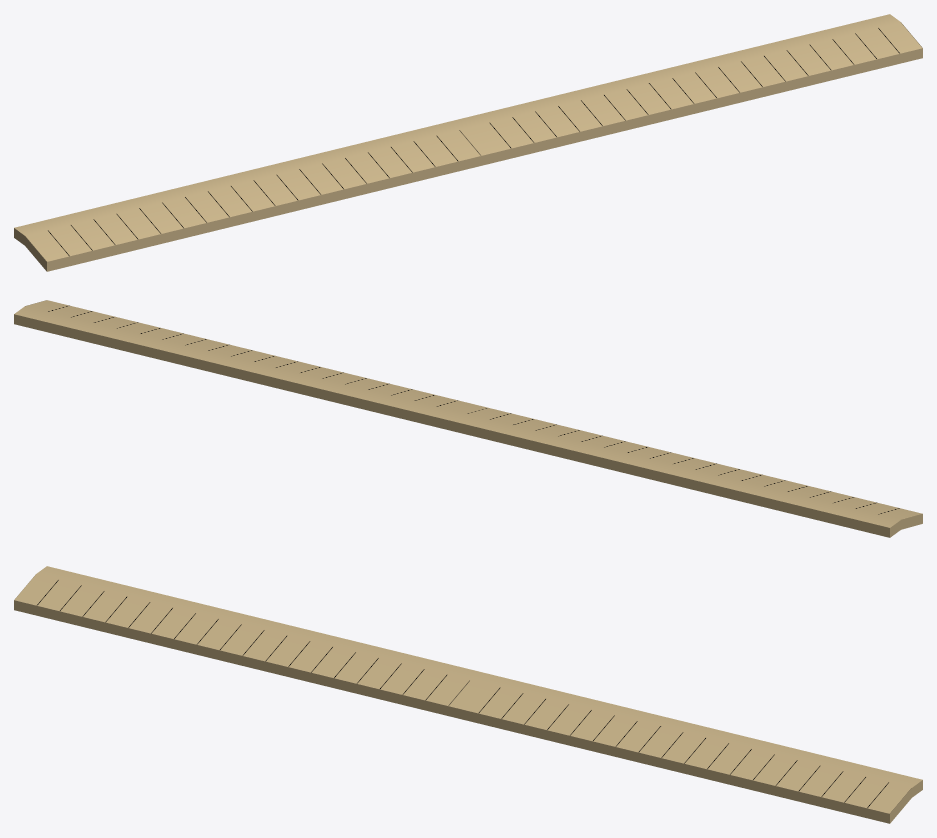
Rendered from PF_WindowSill_Textured.fbx.
The picture shows the model from 3 angles, top to bottom: view 1: azimuth 30°, elevation 25°; view 2: azimuth 150°, elevation 25°; view 3: azimuth 330°, elevation 25°; orthographic projection.
Parts seen in each view (by area): view 1: pCube1; view 2: pCube1; view 3: pCube1.
Part boxes in pixels (x1,y1,x2,y2): pCube1: [14, 14, 922, 271]; pCube1: [14, 300, 922, 537]; pCube1: [14, 566, 922, 823].
Bounding box in the file's own units: 230 × 5 × 15.
